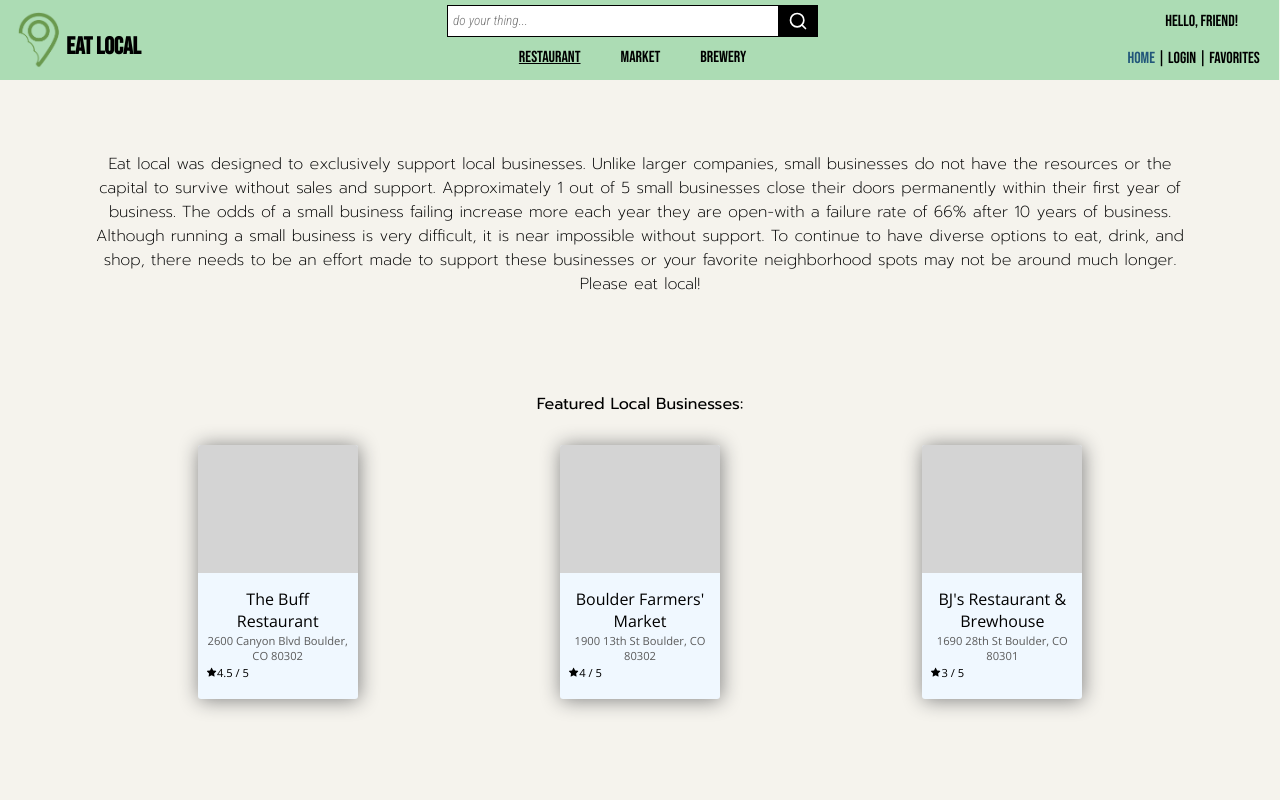
Test: Landing Page › nav bar greeting changes when a user logs in
Expected: the text "Hello, Friend!" is shown, [1165, 12, 1238, 31]
Click the text with class "login" at (1182, 59), box [1168, 49, 1196, 68]
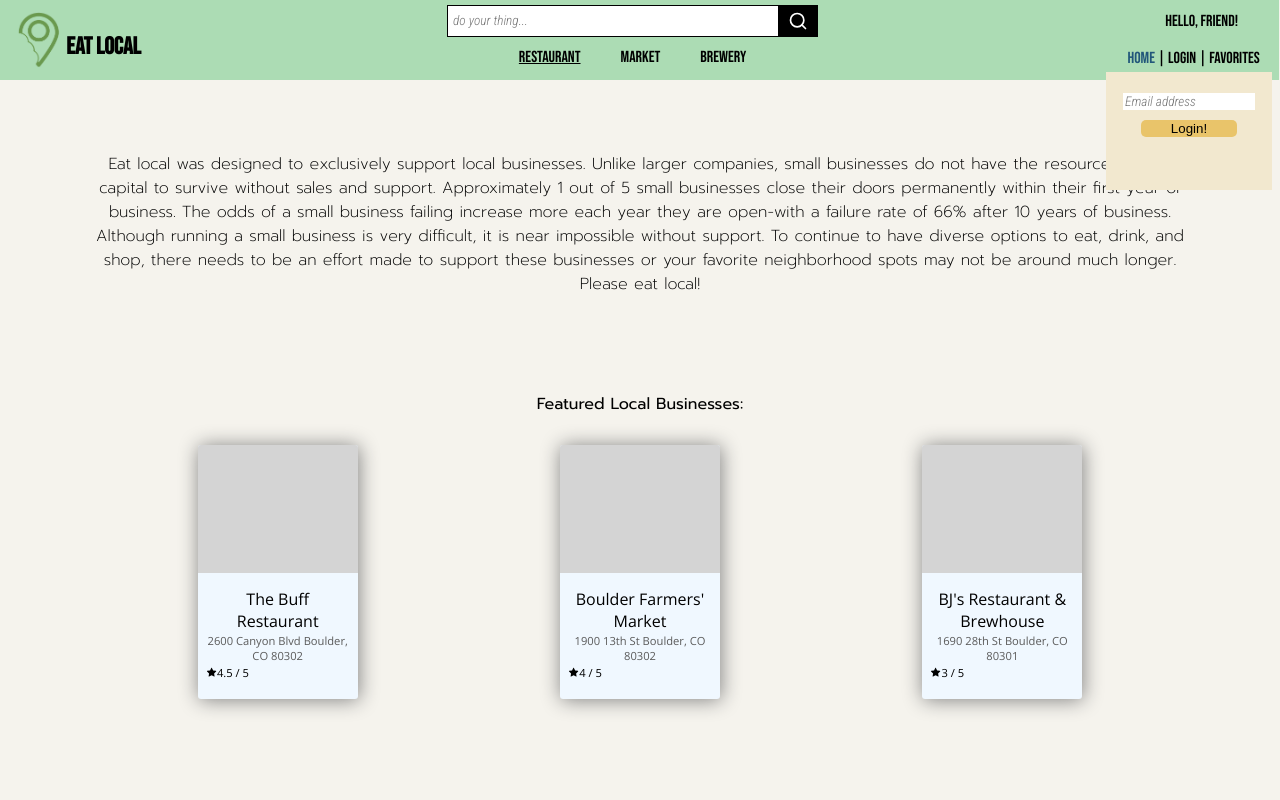
Type "example@email.com" into the field with class "input-email" at (1189, 102), box [1123, 93, 1255, 110]
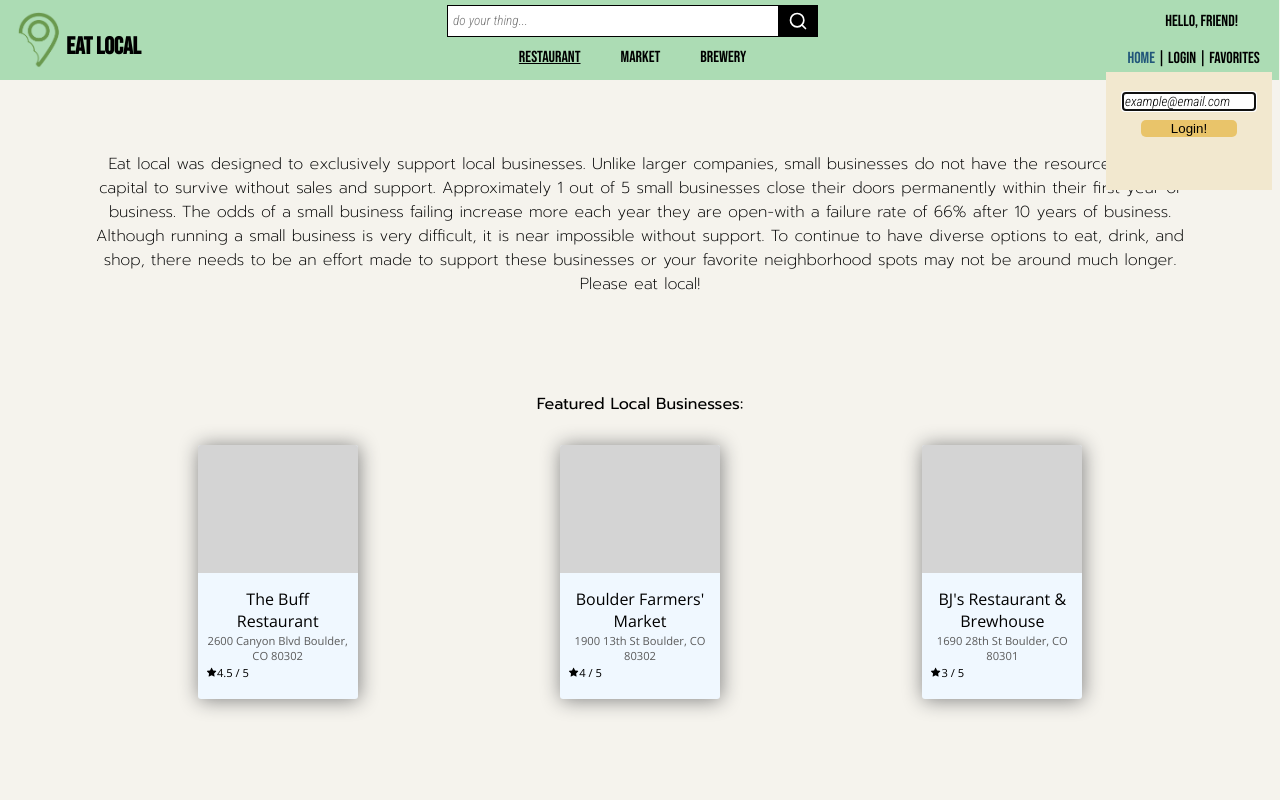
Click the button with class "login-btn" at (1189, 129), box [1141, 120, 1237, 137]
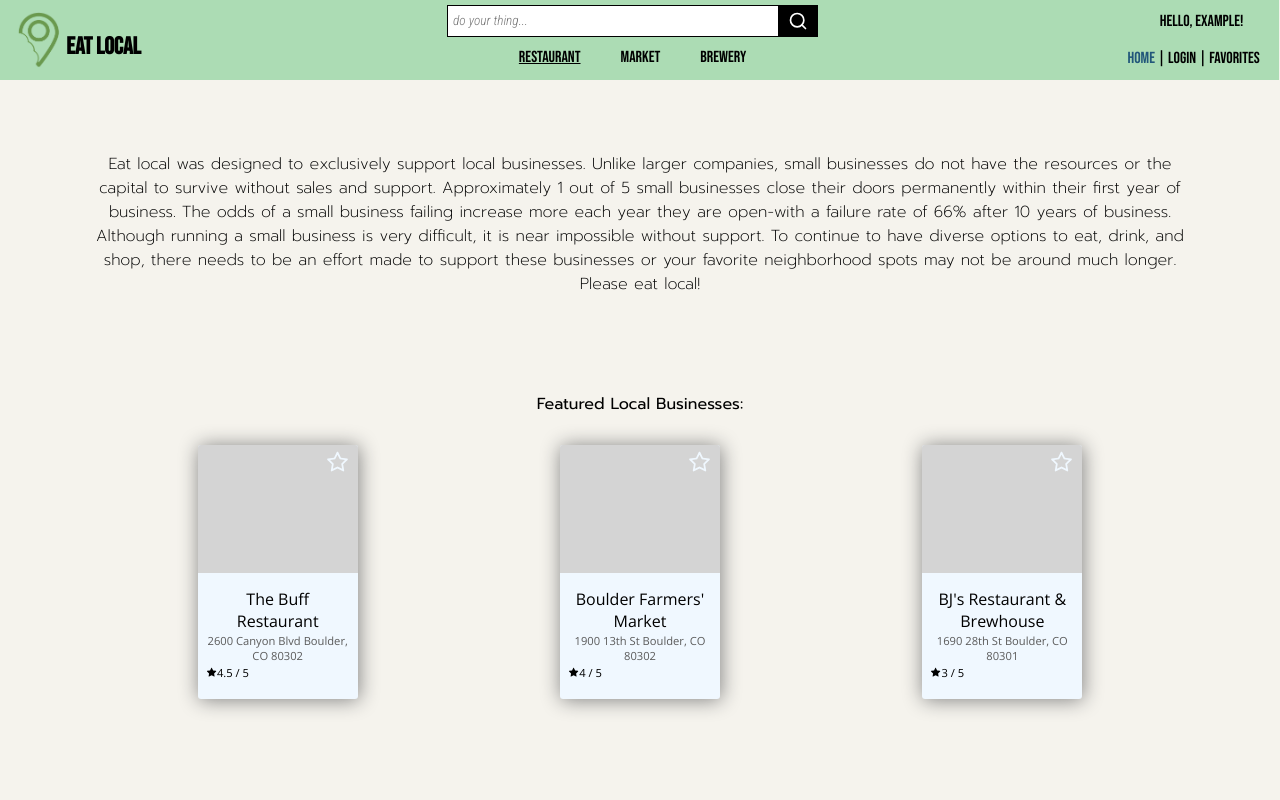
Expected: the text "Hello, Example!" is shown, [1160, 12, 1243, 31]
